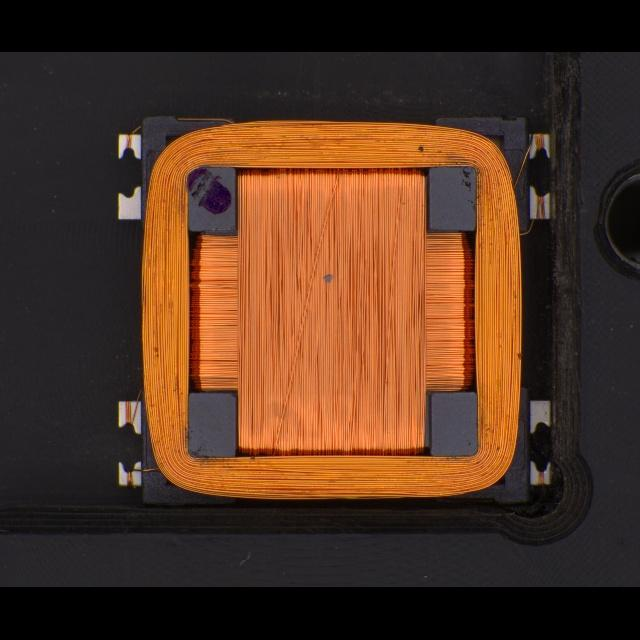Winding_Z: (138, 116, 525, 502)
